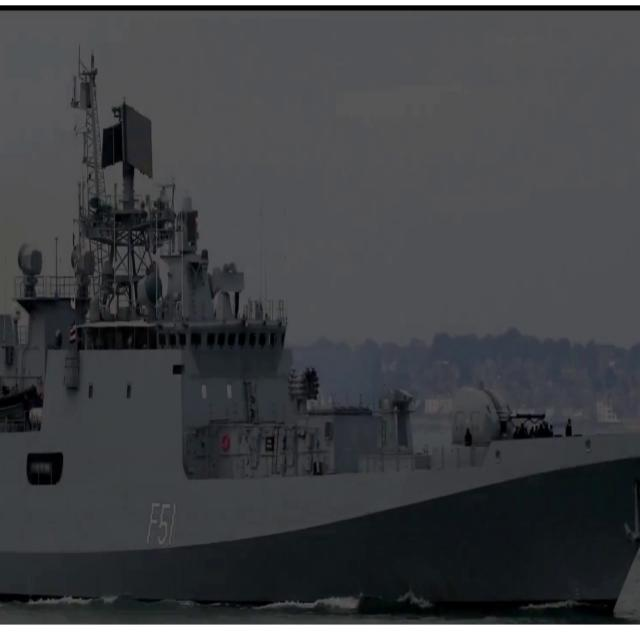OCR: (146, 496, 180, 548)
